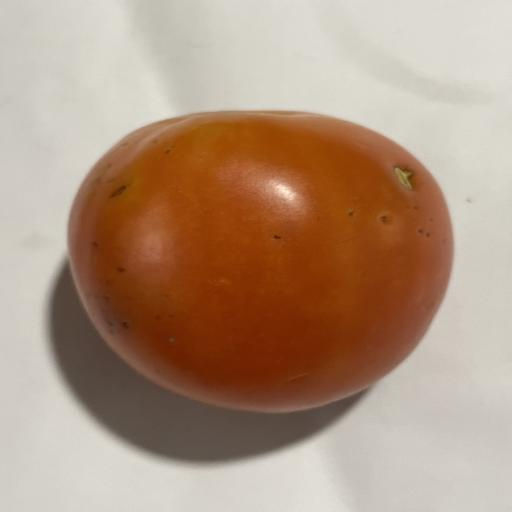ripe: (69, 111, 453, 412)
